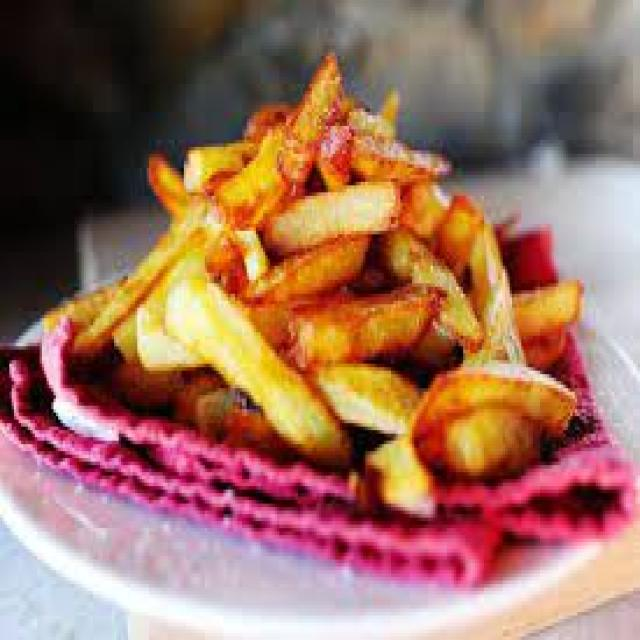감자튀김: (0, 52, 631, 633)
